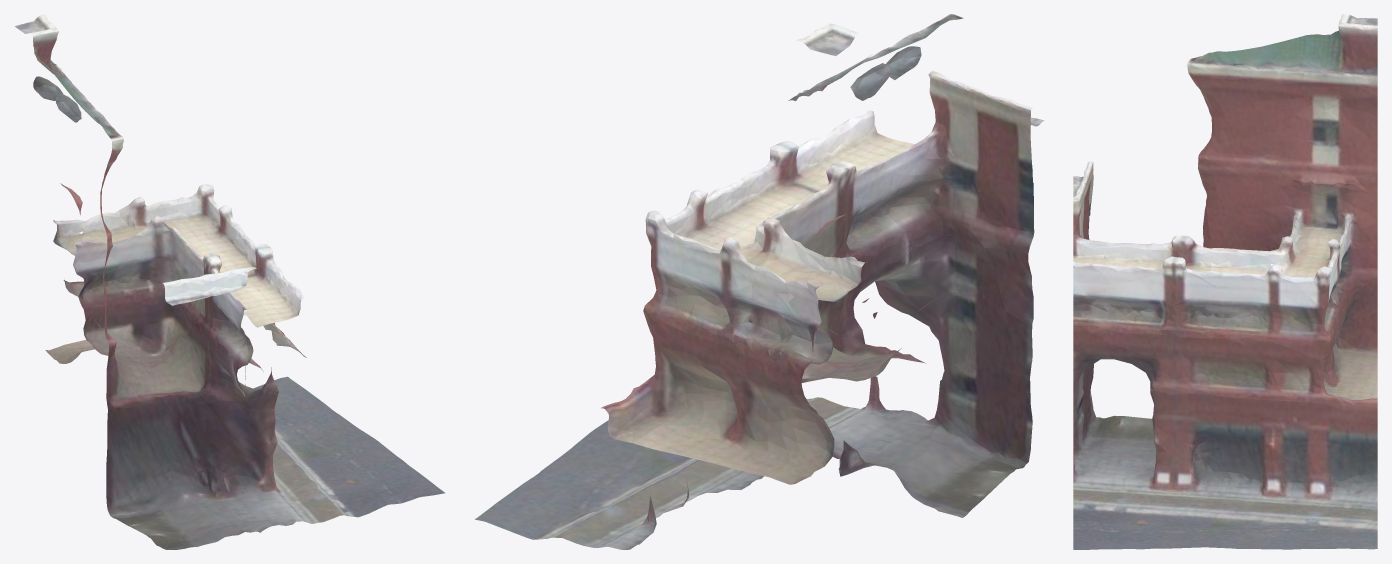
File: Tile_+003_+003_L22_00030200.glb
The picture shows the model from 3 angles, left to right: view 1: azimuth 30°, elevation 25°; view 2: azimuth 150°, elevation 25°; view 3: azimuth 270°, elevation 25°; orthographic projection. The views are drawn at different scales.
Parts seen in each view (by area): view 1: rtc; view 2: rtc; view 3: rtc.
Part boxes in pixels (x1=…): rtc: x1=14, y1=14, x2=445, y2=549; rtc: x1=475, y1=14, x2=1044, y2=549; rtc: x1=1073, y1=14, x2=1377, y2=549.
Size of the model in its own units: 12.56 by 18.76 by 12.56.
1 material, 1 textured.
